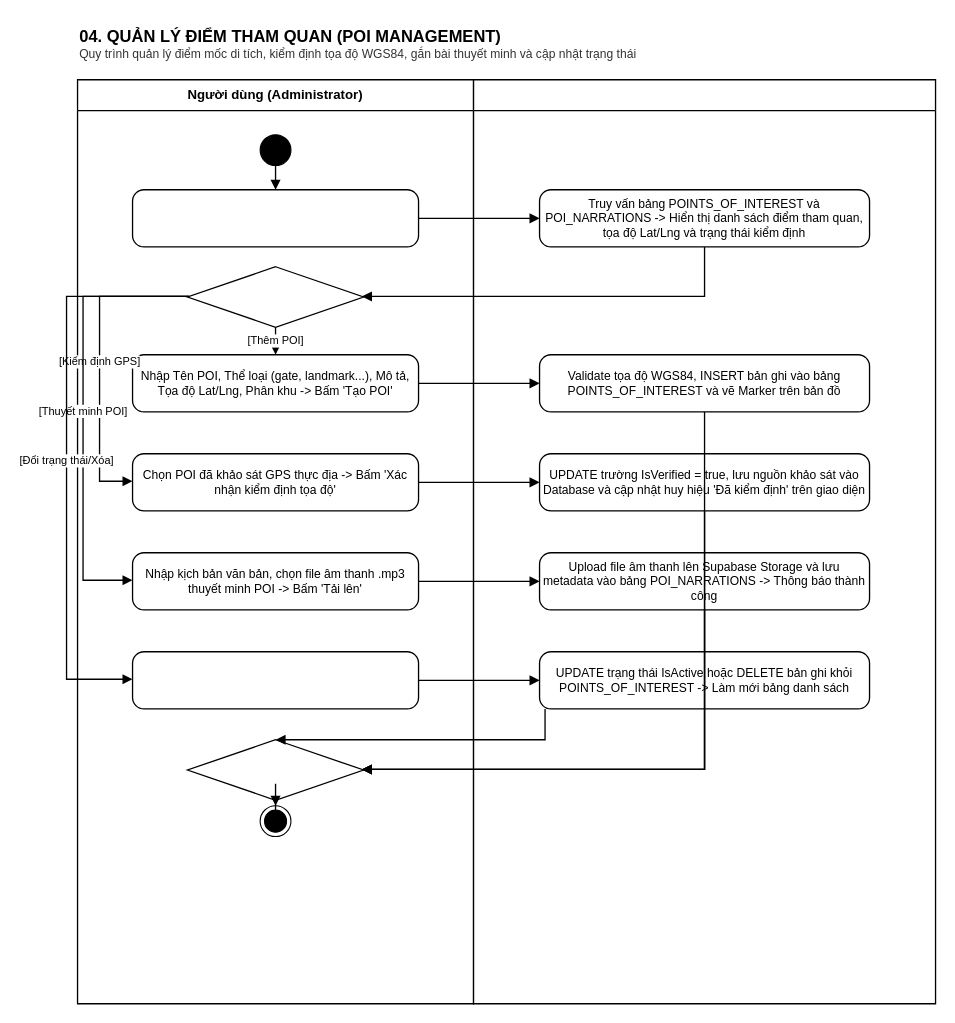
The diagram is 955 pixels wide and 1023 high, and some of its shapes have lost their labels. Here are the shapes that lost their labels. From the top down, the box of each, then its label:
(131, 189, 419, 247): Truy cập mục Quản lý điểm tham quan (POI)
(186, 266, 364, 327): Chọn nghiệp vụ POI?
(472, 79, 936, 1004): Hệ thống (System)
(131, 651, 419, 709): Chọn Bật/Tắt hoạt động (Active/Inactive) hoặc bấm Xóa điểm tham quan
(186, 739, 364, 800): Hợp nhất
